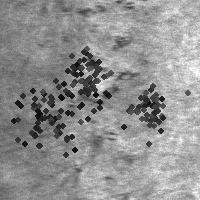rolled-in_scale: (0, 60, 101, 170), (71, 1, 137, 108), (41, 36, 125, 120), (70, 118, 137, 183), (115, 72, 179, 136)
